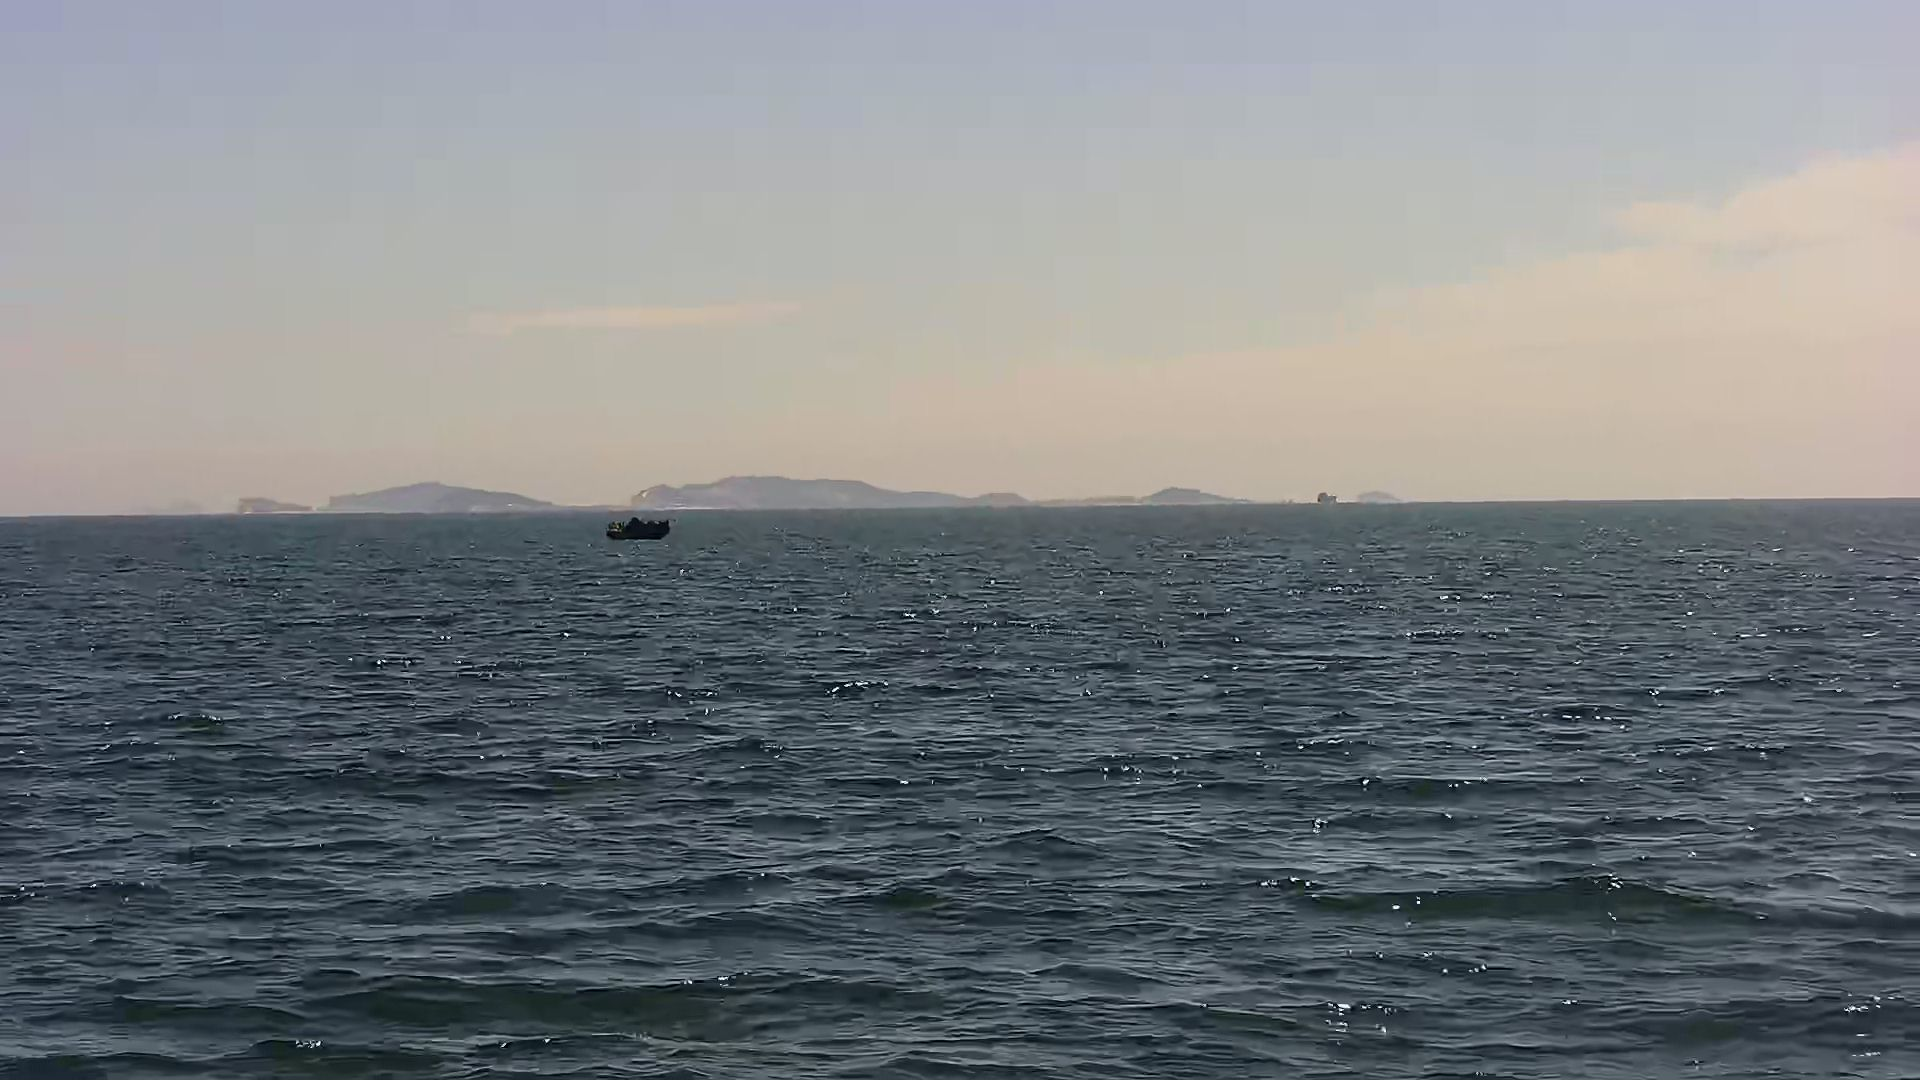boat: (609, 516, 669, 545)
rock: (622, 477, 1296, 508), (326, 480, 583, 510), (225, 491, 320, 520), (1352, 487, 1403, 506)
